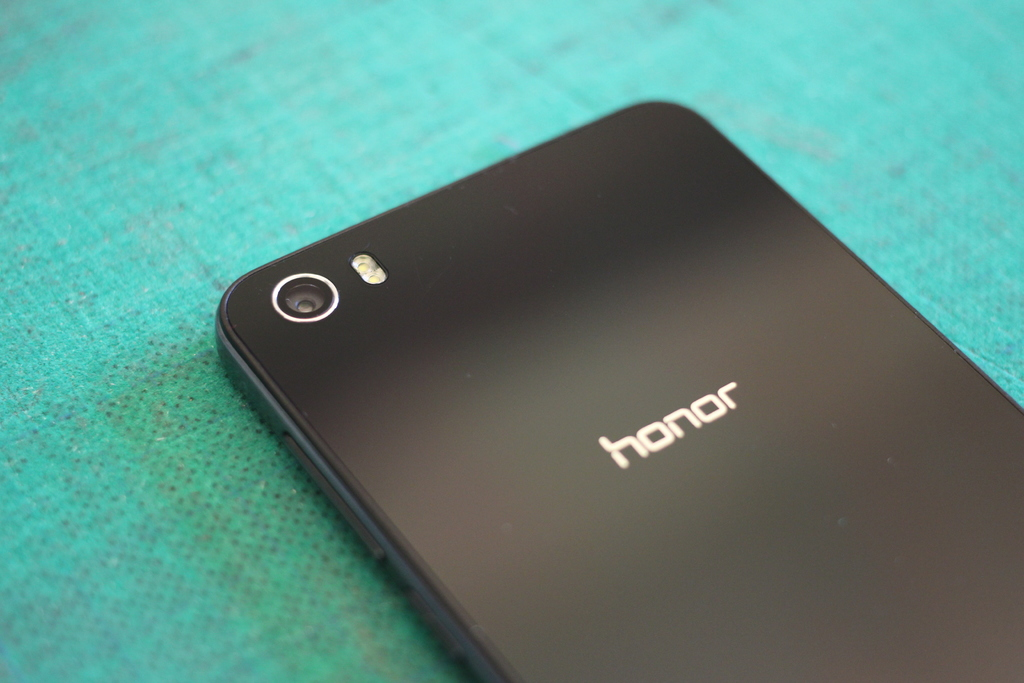Mobile-phone: (217, 98, 1015, 683)
